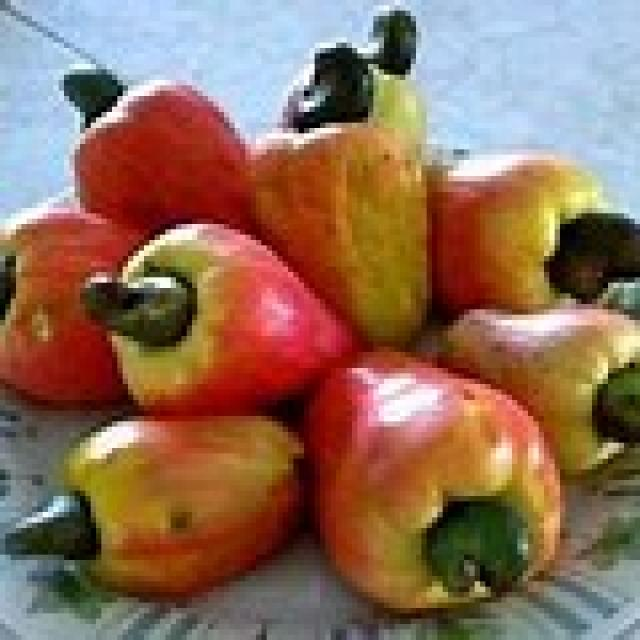Cashew: (426, 492, 578, 621), (74, 240, 178, 375), (1, 454, 64, 613), (552, 203, 640, 301), (289, 39, 368, 134), (597, 315, 640, 448), (45, 48, 125, 116)
